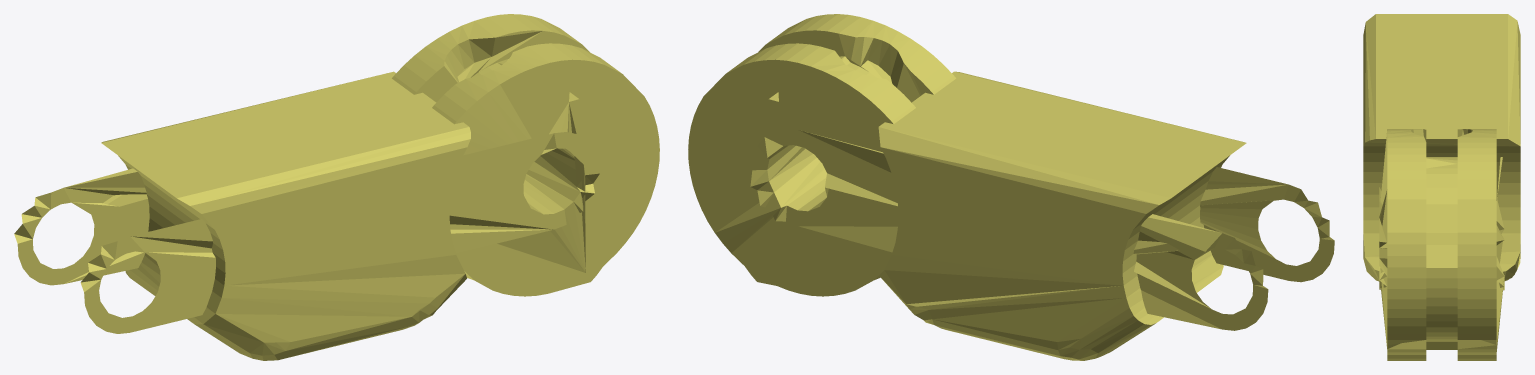
Rendered from H2R3_thumb_knuckle1.dae.
3 renders of one model, left to right at view 1: azimuth 30°, elevation 25°; view 2: azimuth 150°, elevation 25°; view 3: azimuth 270°, elevation 25°, orthographic. The views are drawn at different scales.
Visible parts, largest first — view 1: H2R3_thumb_knuckle1; view 2: H2R3_thumb_knuckle1; view 3: H2R3_thumb_knuckle1.
Part boxes in pixels (left/top/right/bottom): H2R3_thumb_knuckle1: left=14, top=14, right=659, bottom=360; H2R3_thumb_knuckle1: left=688, top=14, right=1334, bottom=360; H2R3_thumb_knuckle1: left=1363, top=14, right=1520, bottom=360.
Size of the model in its own units: 0.0599 by 0.0161 by 0.0228.
